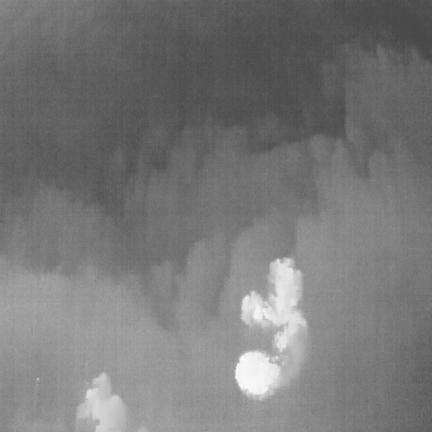flukeprints: (261, 259, 302, 326), (86, 372, 126, 431), (235, 351, 279, 399), (275, 310, 305, 354), (241, 291, 264, 324)
